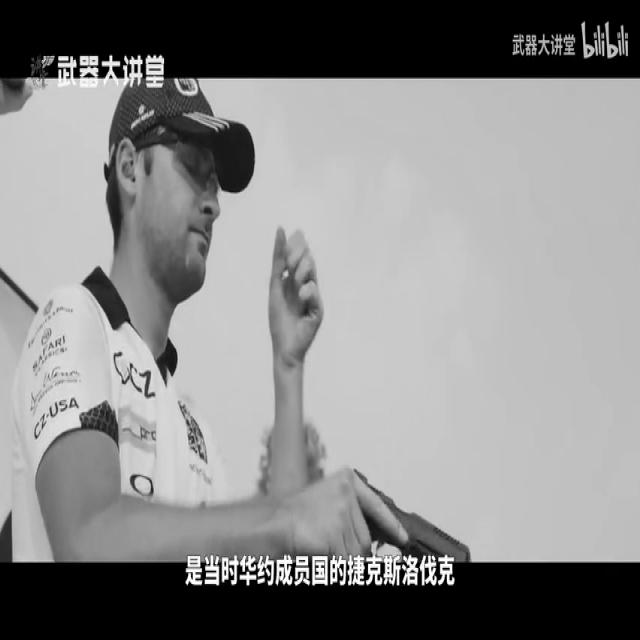Hand-Gun: (340, 464, 476, 571)
